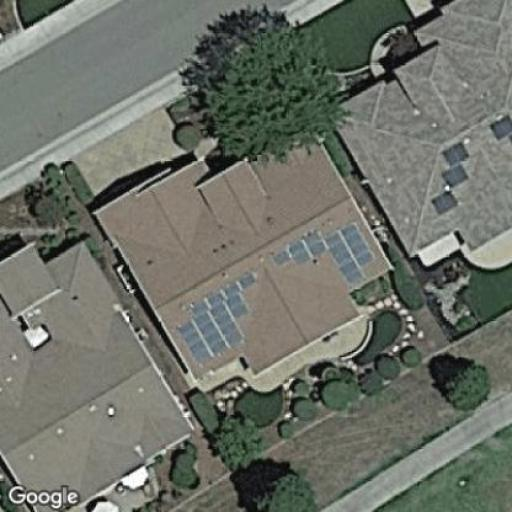solar-panel: (173, 269, 263, 364), (269, 220, 375, 286), (428, 138, 472, 218), (482, 109, 511, 151)
